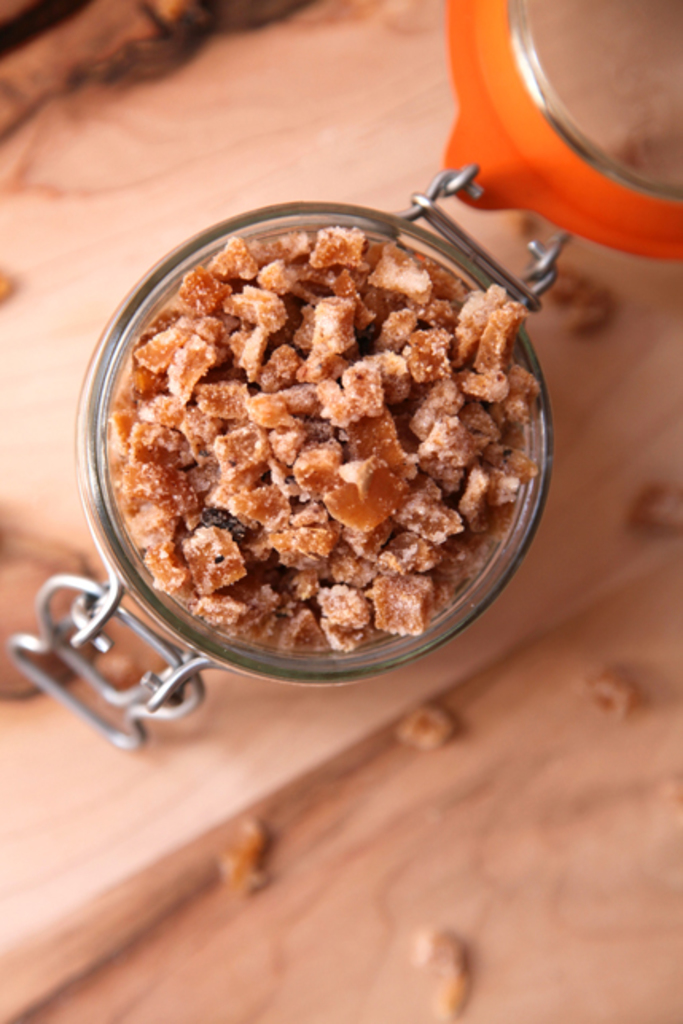person: (1, 0, 442, 130)
